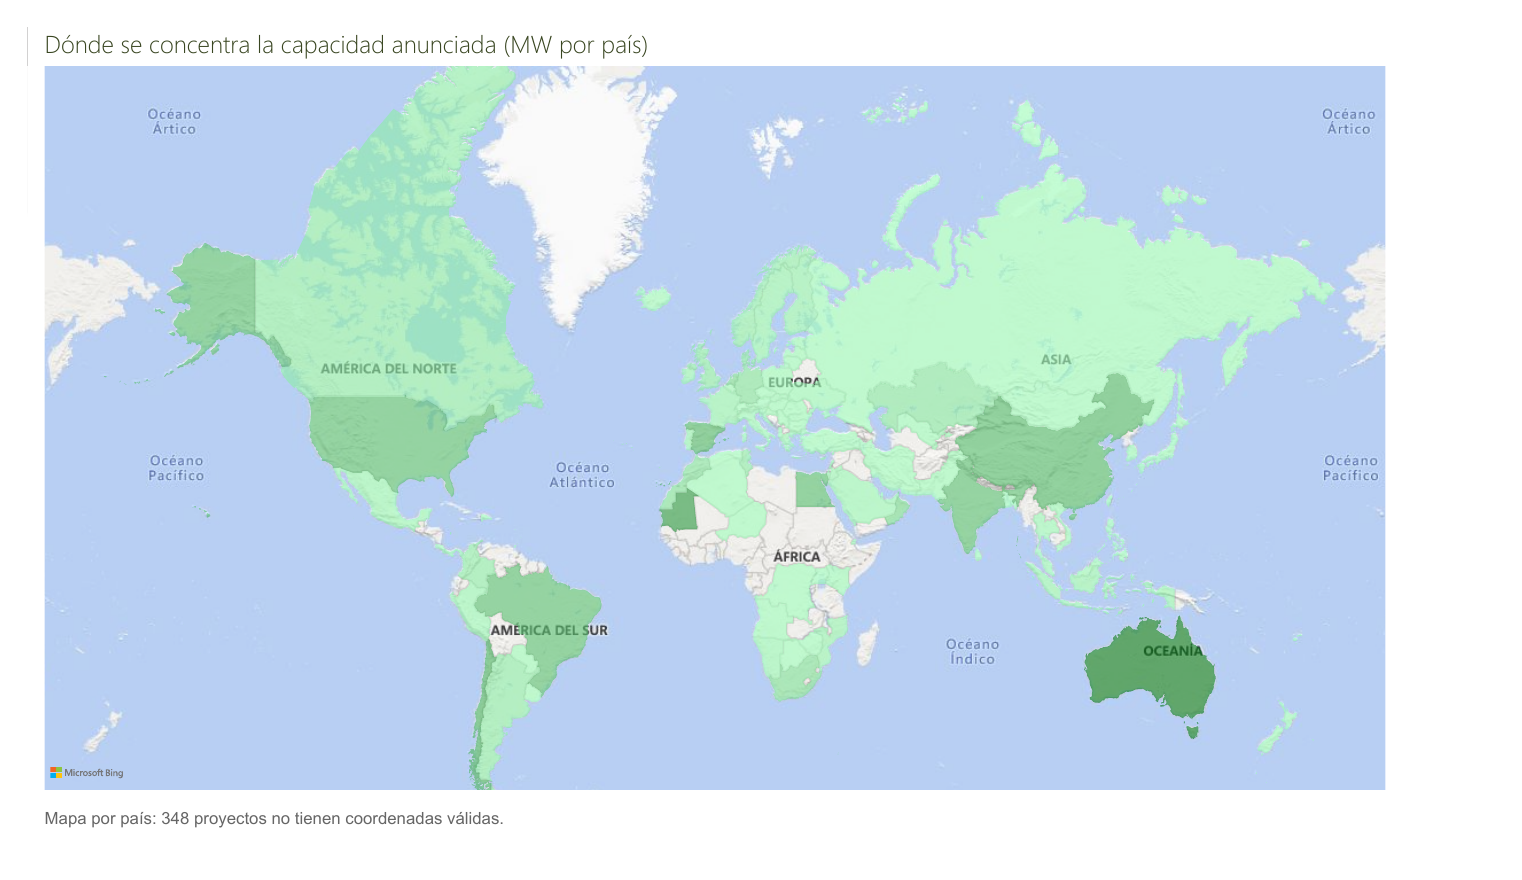

The dashboard page shown, as its layout file describes it:
{"tool":"powerbi","page":{"name":"Mapa Mundial","canvas":[1280,720],"ordinal":3},"visuals":[{"type":"filledMap","title":"Dónde se concentra la capacidad anunciada (MW por país)","fields":{"Category":["P7 Ranking.pais"]},"box":[9.7,0,1180.4,670.4],"z":0},{"type":"textbox","box":[9.7,678.5,500.3,42.1],"z":1000}]}

Visuals, with their boxes in screenshot pixels (x1, y1, x2, y2), scaled from the page's 1280x720 canvas onto the 1522x880 screenshot:
"Dónde se concentra la capacidad anunciada (MW por país)" filledMap: <region>12, 0, 1415, 819</region>
textbox: <region>12, 829, 606, 879</region>
